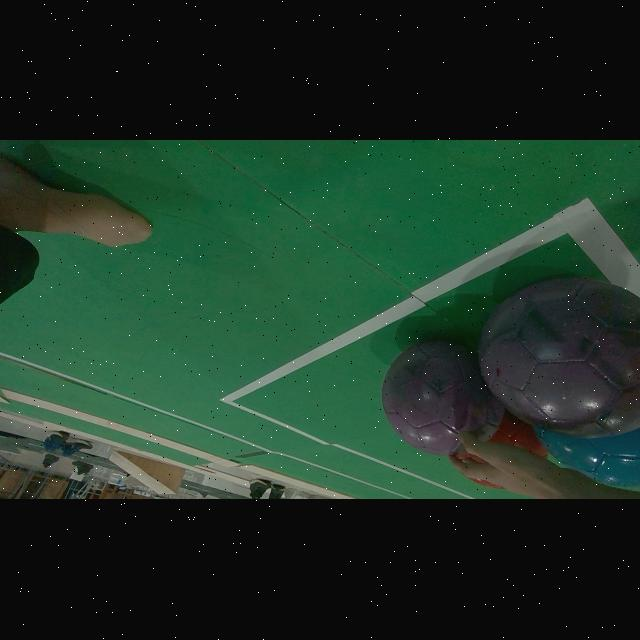B: (534, 428, 640, 491)
P: (479, 279, 640, 438), (383, 341, 504, 456)
R: (489, 411, 548, 457), (470, 479, 503, 490), (457, 454, 484, 464)
